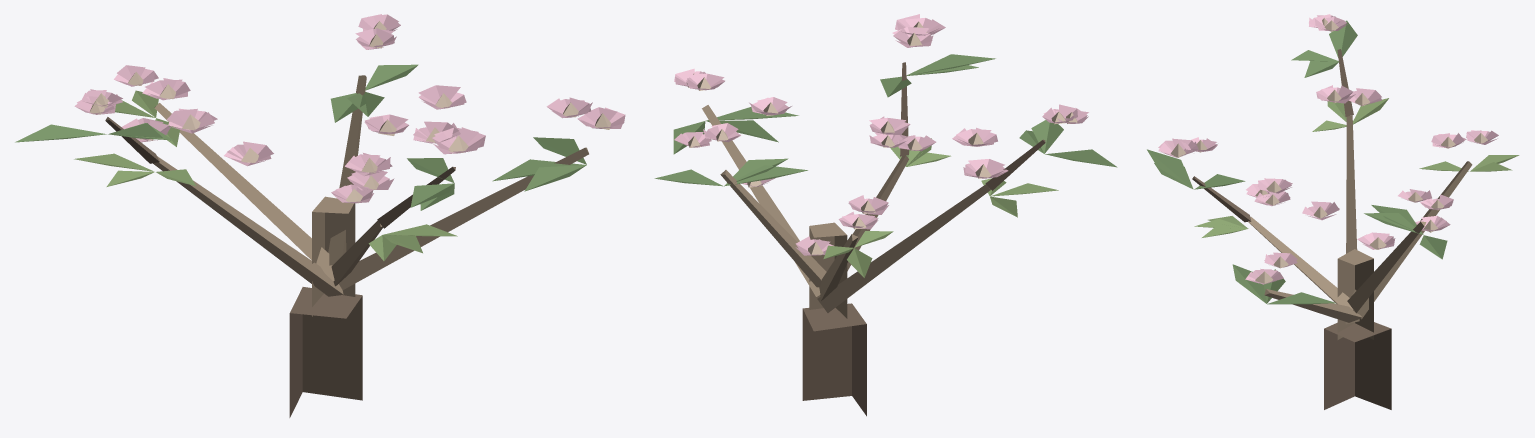
Rendered from hua.mei@flowering__summer.glb.
3 views of the same model, side by side, from view 1: azimuth 30°, elevation 25°; view 2: azimuth 150°, elevation 25°; view 3: azimuth 270°, elevation 25° (orthographic). The views are drawn at different scales.
Parts seen in each view (by area): view 1: hua.mei@flowering__summer; view 2: hua.mei@flowering__summer; view 3: hua.mei@flowering__summer.
Part boxes in pixels (<box>): hua.mei@flowering__summer: <box>15,14,625,417</box>; hua.mei@flowering__summer: <box>654,14,1117,416</box>; hua.mei@flowering__summer: <box>1147,14,1519,409</box>.
Bounding box in the file's own units: 3.66 × 2.42 × 2.74.
